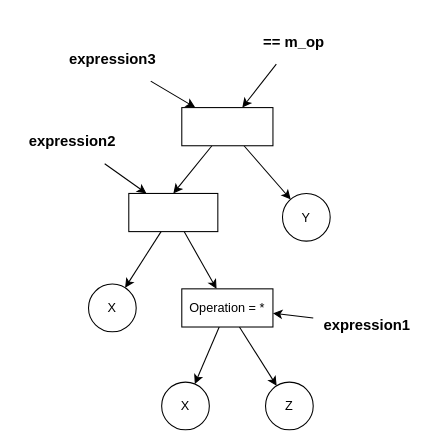
Image size: 439x448. Some labels were removed from this diagram. The centre of each missing label's shape, as x and y in pixels:
"Operation = +" belongs at [227,126].
"Operation = -" belongs at [173,212].
